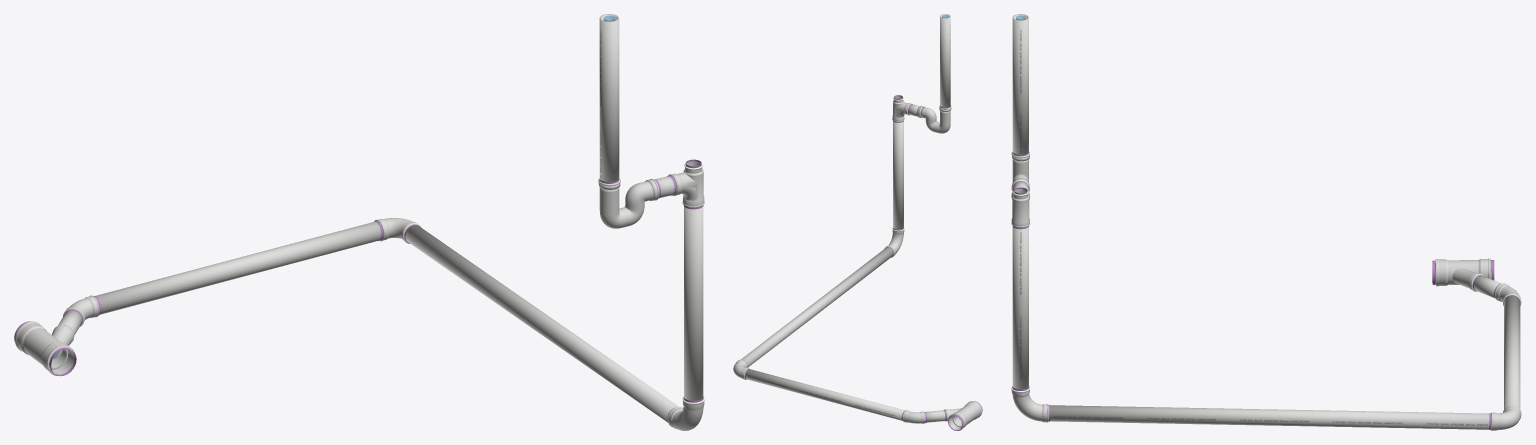
File: slab_pipes_dwv__fault-none+belly+vent_open_attic+vent_hole_wall+condensate_trap_dry.glb
3 renders of one model, left to right at view 1: azimuth 30°, elevation 25°; view 2: azimuth 150°, elevation 25°; view 3: azimuth 270°, elevation 25°, orthographic. The views are drawn at different scales.
Parts seen in each view (by area): view 1: pipe_dwv_laundry, pipe_dwv_laundry_standpipe, fit_wye_pipe_dwv_laundry, laundry_p_trap, fit_tee_pipe_dwv_laundry; view 2: pipe_dwv_laundry, pipe_dwv_laundry_standpipe, fit_wye_pipe_dwv_laundry, laundry_p_trap, fit_tee_pipe_dwv_laundry; view 3: pipe_dwv_laundry, pipe_dwv_laundry_standpipe, fit_wye_pipe_dwv_laundry, fit_tee_pipe_dwv_laundry, laundry_p_trap.
Part boxes in pixels (bbox=[...]): pipe_dwv_laundry: bbox=[58, 176, 704, 430]; pipe_dwv_laundry_standpipe: bbox=[599, 14, 619, 182]; fit_wye_pipe_dwv_laundry: bbox=[14, 321, 76, 376]; laundry_p_trap: bbox=[598, 178, 660, 228]; fit_tee_pipe_dwv_laundry: bbox=[667, 159, 704, 209]; pipe_dwv_laundry: bbox=[733, 104, 945, 423]; pipe_dwv_laundry_standpipe: bbox=[940, 14, 950, 107]; fit_wye_pipe_dwv_laundry: bbox=[943, 401, 982, 430]; laundry_p_trap: bbox=[916, 105, 951, 133]; fit_tee_pipe_dwv_laundry: bbox=[892, 95, 912, 122]; pipe_dwv_laundry: bbox=[1011, 181, 1521, 430]; pipe_dwv_laundry_standpipe: bbox=[1012, 14, 1028, 154]; fit_wye_pipe_dwv_laundry: bbox=[1432, 258, 1494, 291]; fit_tee_pipe_dwv_laundry: bbox=[1011, 187, 1030, 229]; laundry_p_trap: bbox=[1011, 152, 1029, 191].
Size of the model in its own units: 1.44 by 1.58 by 1.87.
5 materials, 1 textured.
